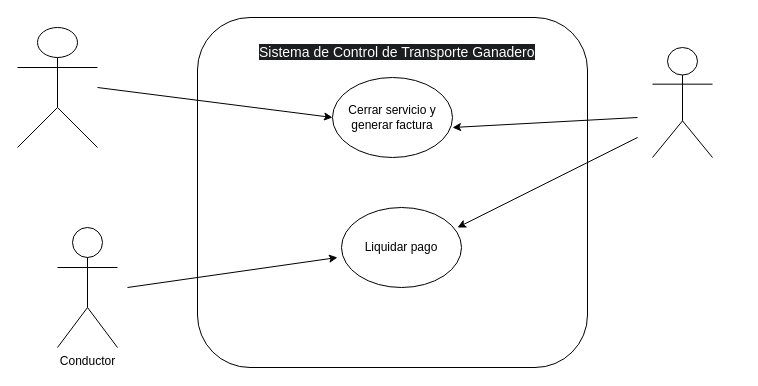
Image size: 758x386. Some labels were removed from this diagram. The shapes that lost their labels are listed below. From the top down, each one's box as (x1, y1, x2, y2) in pixels, then its label:
(16, 26, 98, 148): Ganadero
(652, 46, 712, 158): Coordinador Logístico
